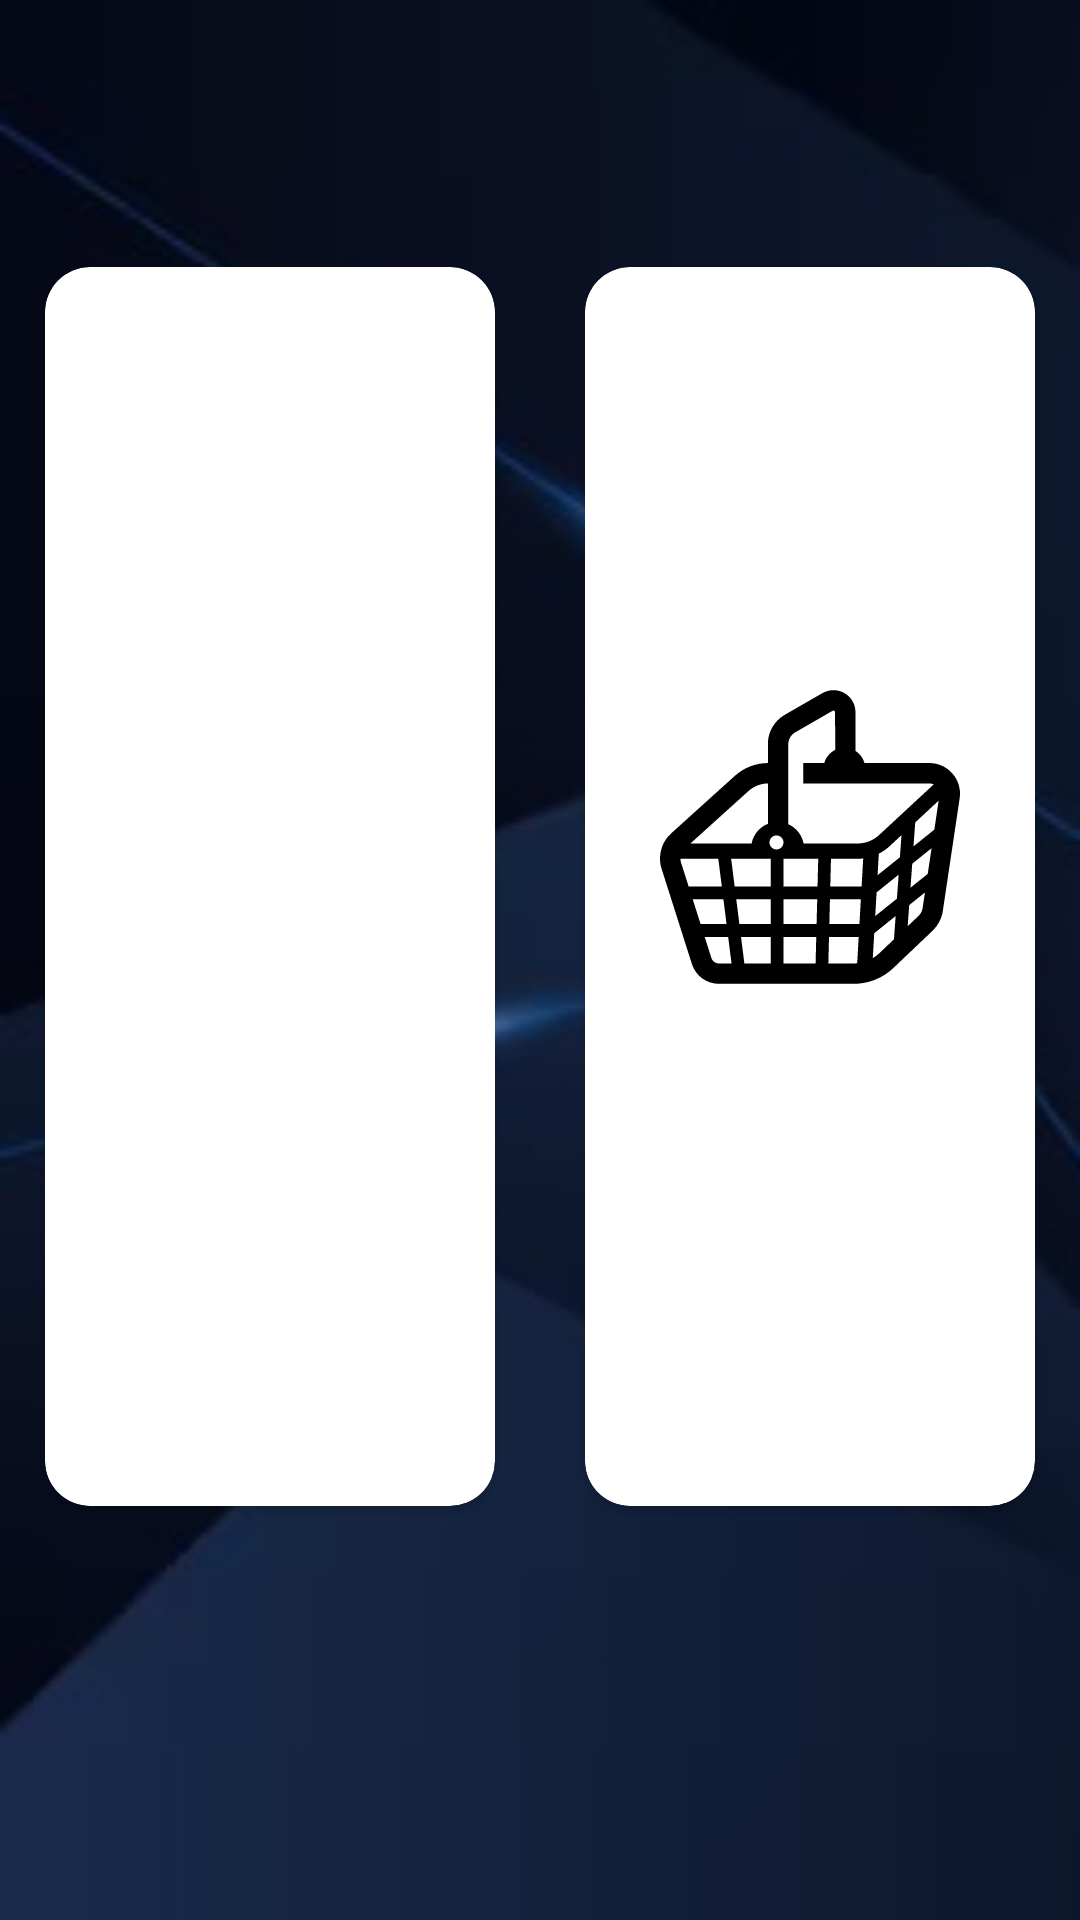

Named icons in this screenshot (1080×1920) and their centers, [x,y]:
basket free: [810,837]
